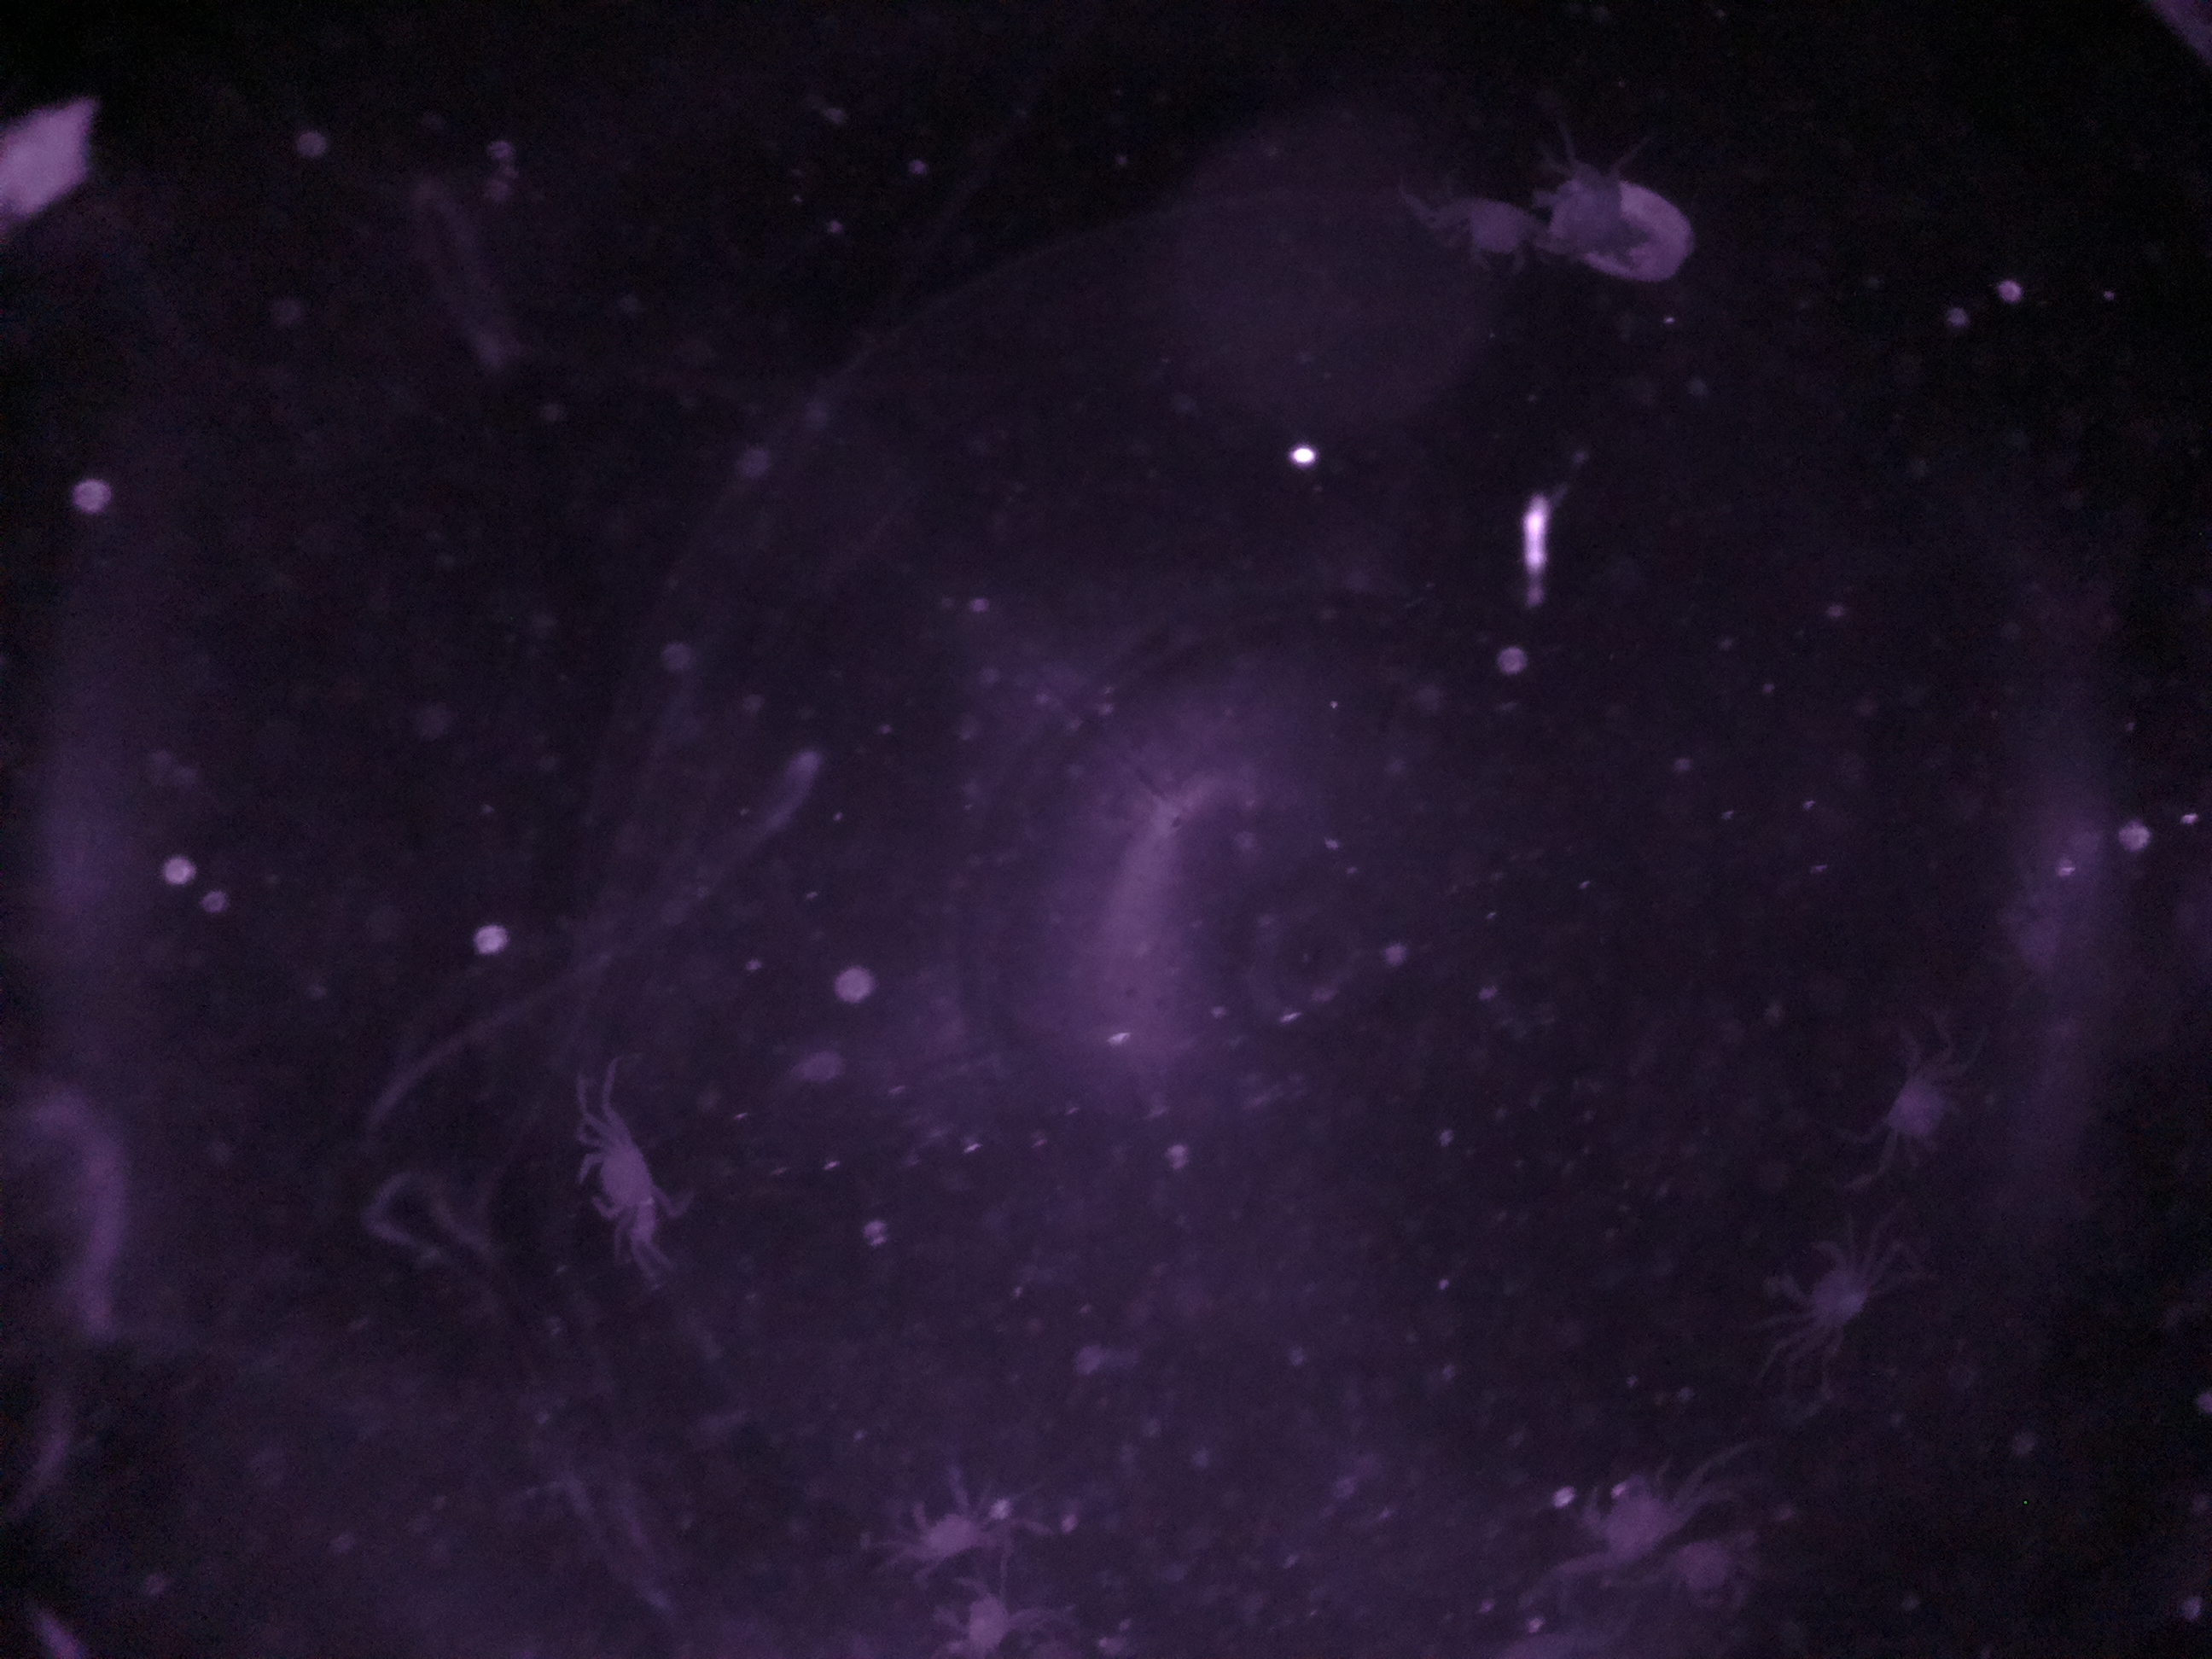Crab: (1756, 1218, 1893, 1352), (1559, 1453, 1695, 1586), (1864, 1046, 1984, 1175), (887, 1450, 1000, 1584), (561, 1121, 681, 1241), (1442, 183, 1569, 291)
